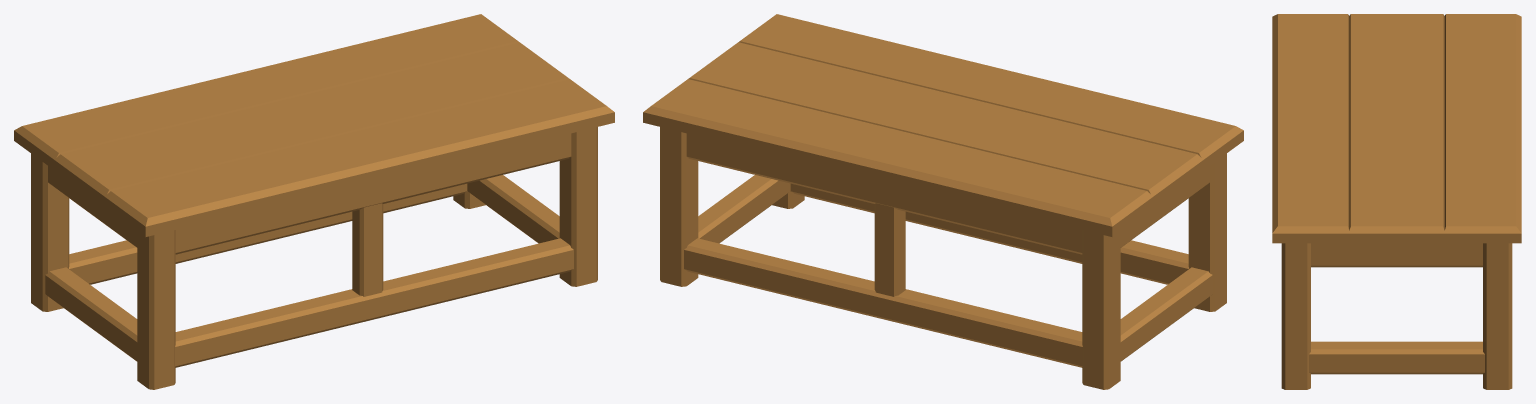
Rendered from SM_Furniture_BenchLong_Honey_02.fbx.
The picture shows the model from 3 angles, left to right: view 1: azimuth 30°, elevation 25°; view 2: azimuth 150°, elevation 25°; view 3: azimuth 270°, elevation 25°; orthographic projection. The views are drawn at different scales.
Parts seen in each view (by area): view 1: SM_Furniture_BenchLong_Honey_02; view 2: SM_Furniture_BenchLong_Honey_02; view 3: SM_Furniture_BenchLong_Honey_02.
Boxes of the visible parts, <box> form: SM_Furniture_BenchLong_Honey_02: <box>14,14,614,389</box>; SM_Furniture_BenchLong_Honey_02: <box>643,14,1243,389</box>; SM_Furniture_BenchLong_Honey_02: <box>1272,14,1521,389</box>.
Size of the model in its own units: 1.4 by 0.5 by 0.68.
1 material, 1 textured.
